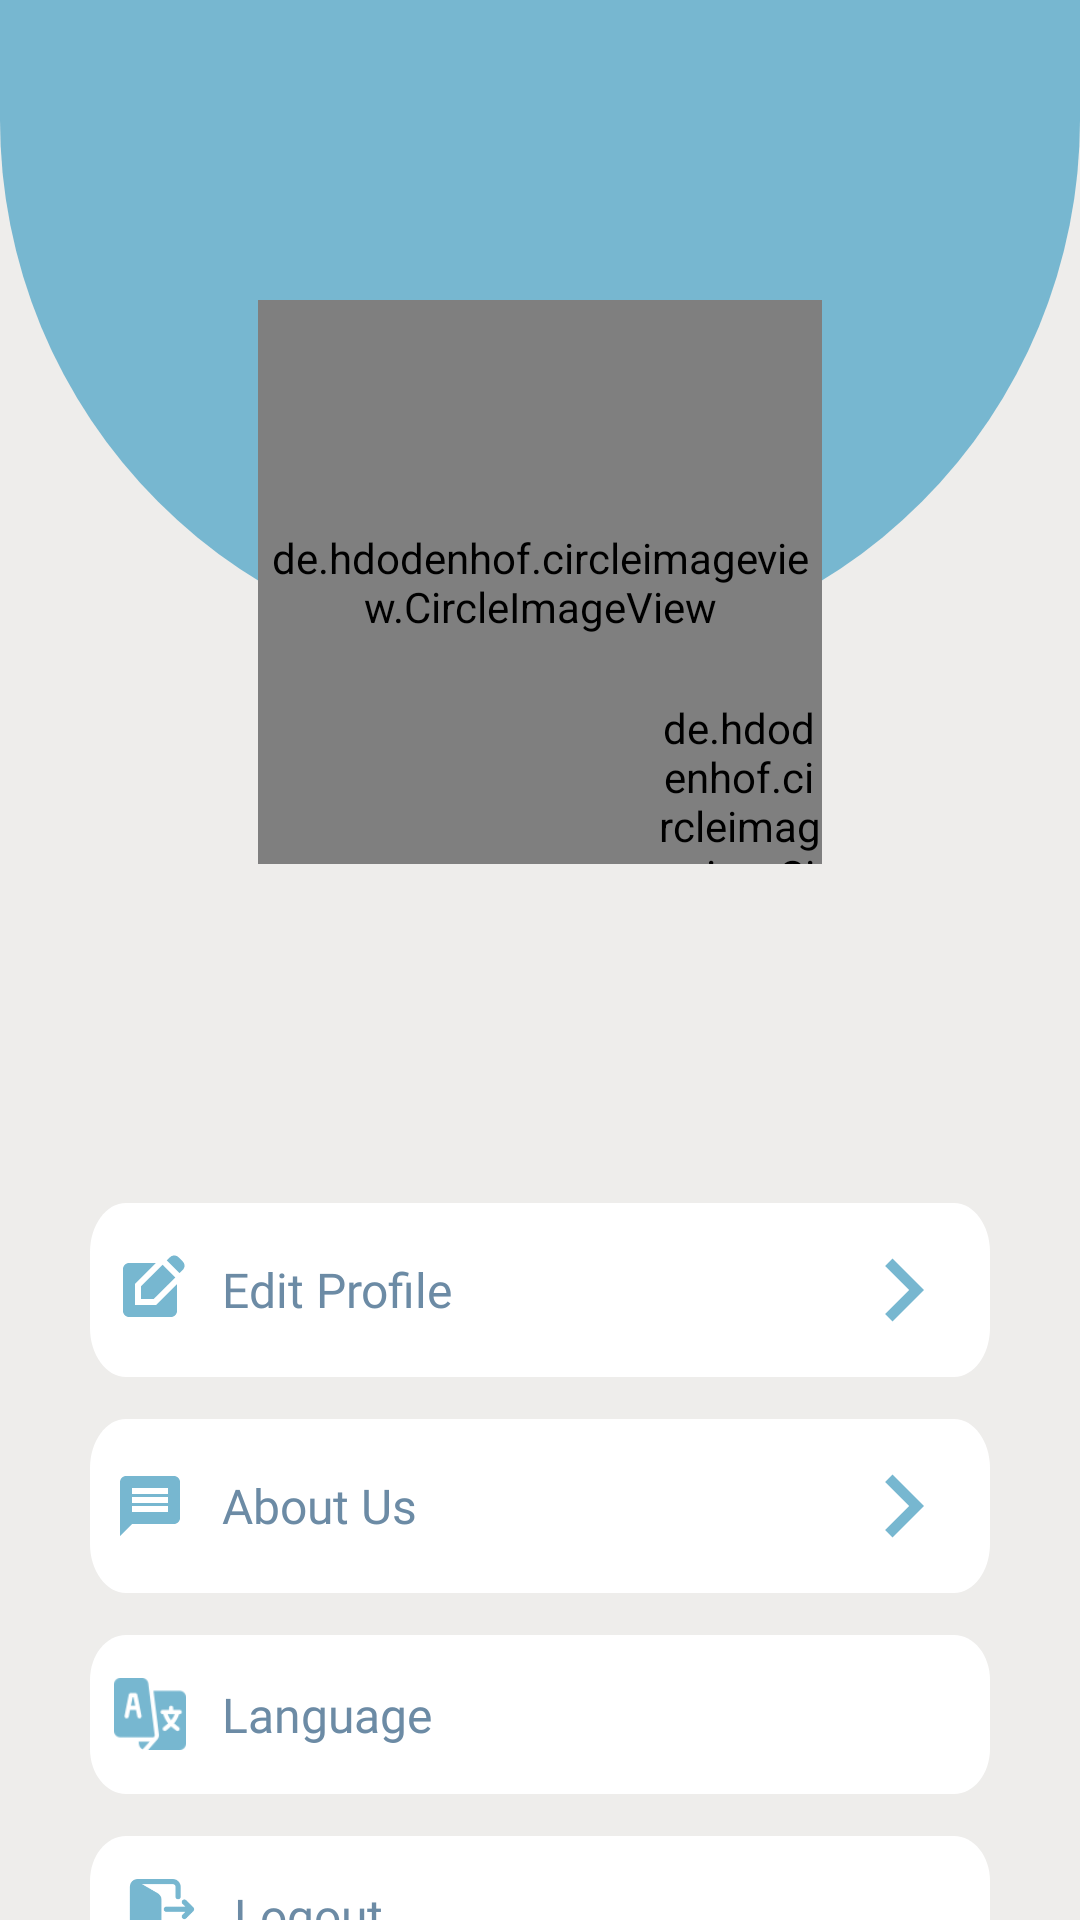

Icons on this 1080×1920 Android screen, each with the point to tap as point (x, y):
right arrow: point (904, 1290), point (904, 1506)
